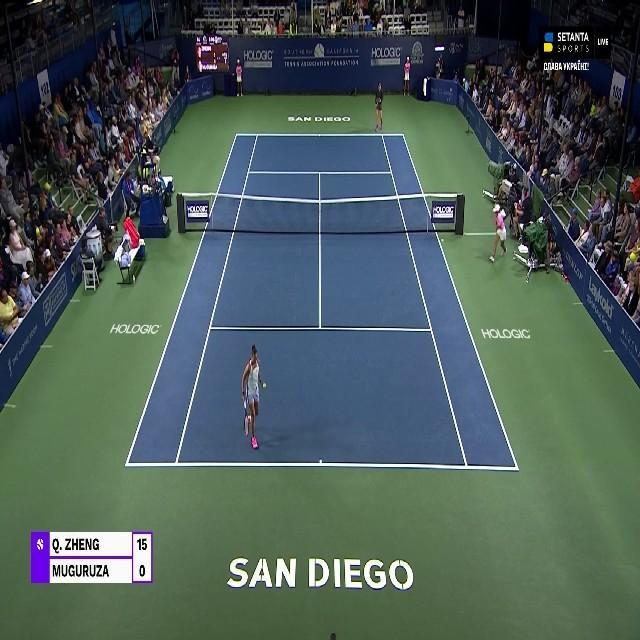left side: (382, 135, 519, 470), (125, 135, 258, 465)
player: (238, 342, 269, 450), (374, 81, 386, 134)
